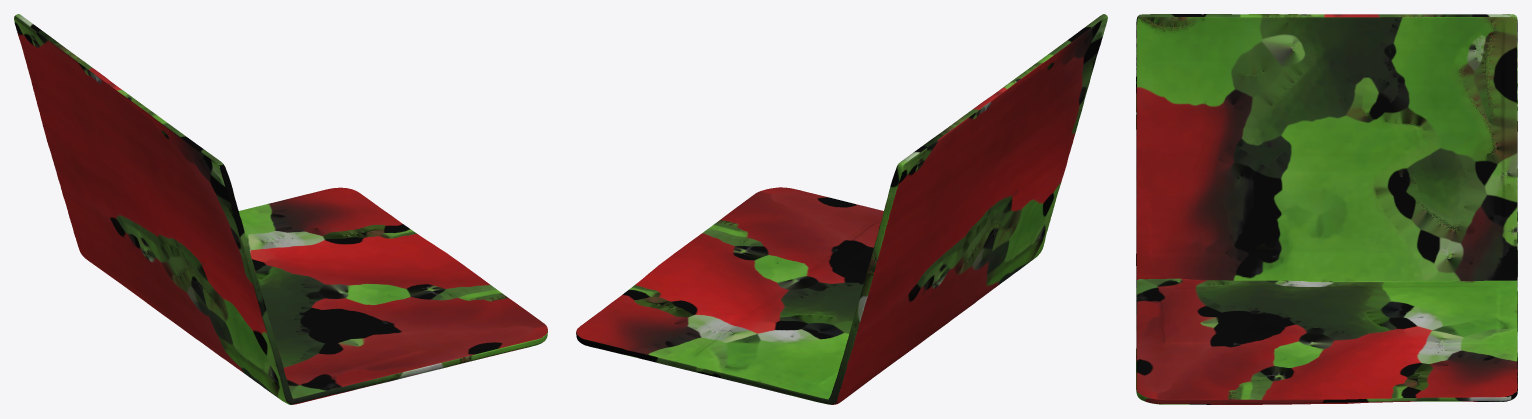
Rendered from sample.obj.
The picture shows the model from 3 angles, left to right: view 1: azimuth 30°, elevation 25°; view 2: azimuth 150°, elevation 25°; view 3: azimuth 270°, elevation 25°; orthographic projection. The views are drawn at different scales.
Bounding box in the file's own units: 0.4351 × 0.325 × 0.458.
